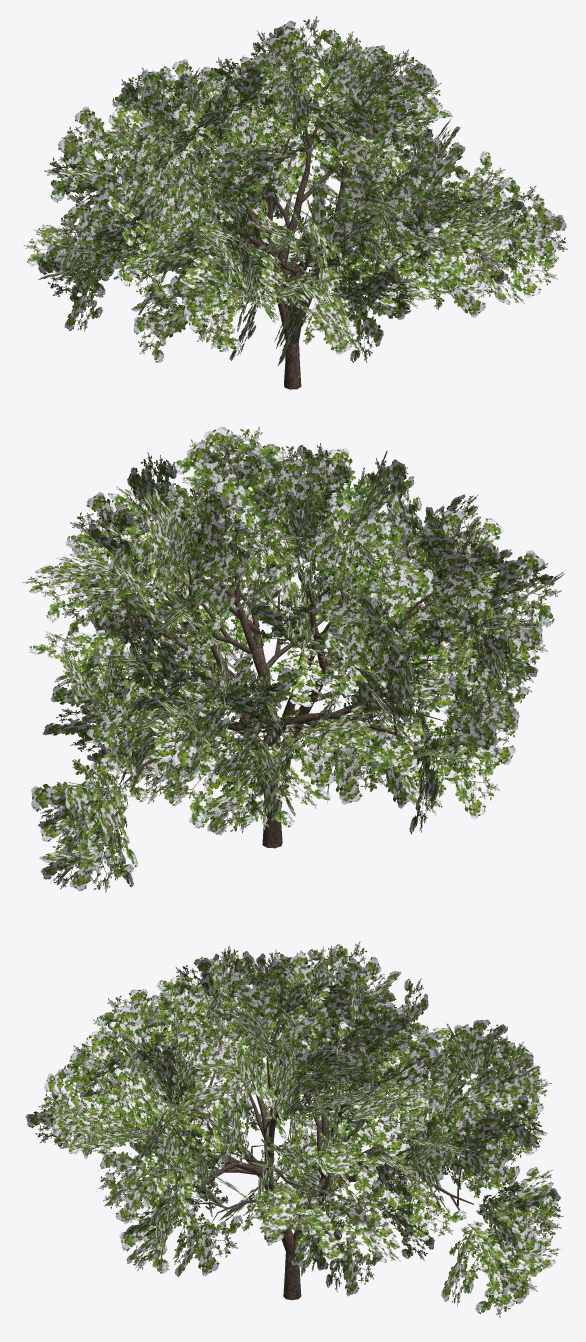
The model's file is tree_03b.fbx.
3 renders of one model, top to bottom at view 1: azimuth 30°, elevation 25°; view 2: azimuth 150°, elevation 25°; view 3: azimuth 270°, elevation 25°, orthographic. The views are drawn at different scales.
Parts seen in each view (by area): view 1: leaves_LOD0, branches_LOD0; view 2: leaves_LOD0, branches_LOD0; view 3: leaves_LOD0, branches_LOD0.
Part boxes in pixels (x1,y1,x2,y2): leaves_LOD0: [23, 15, 567, 365]; branches_LOD0: [114, 125, 441, 389]; leaves_LOD0: [22, 426, 564, 892]; branches_LOD0: [83, 536, 455, 848]; leaves_LOD0: [25, 941, 563, 1317]; branches_LOD0: [144, 1031, 480, 1300].
Size of what is drawn, in the model's own units: 1196 by 869 by 1293.
